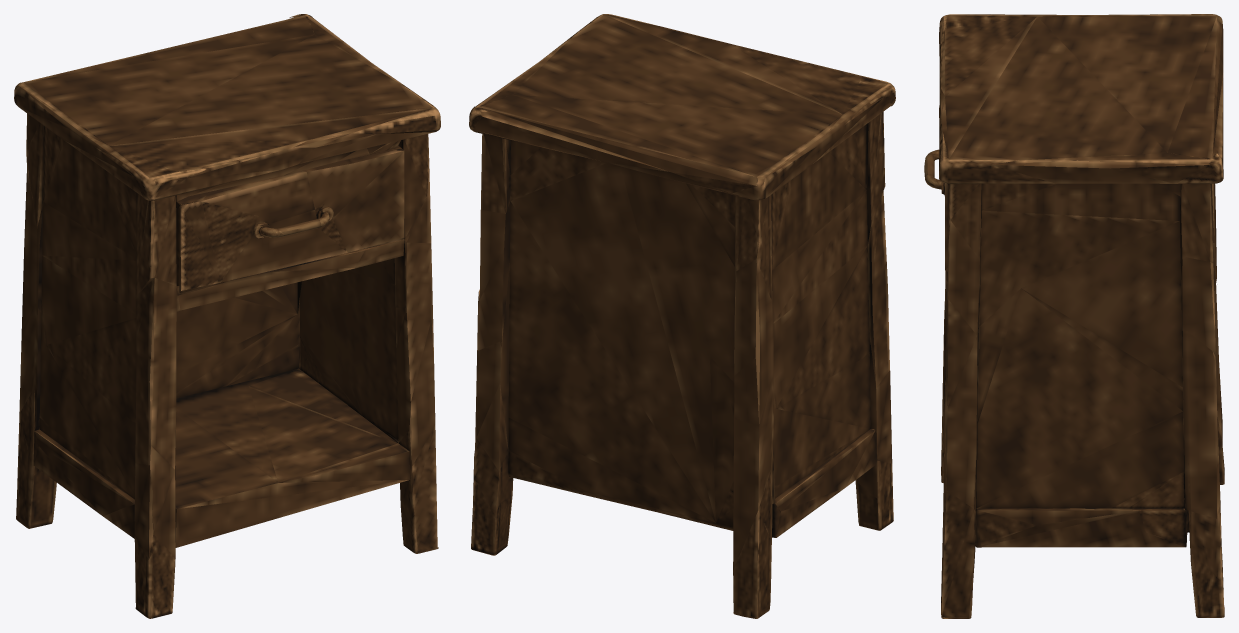
The model's file is nightstand.glb.
3 views of the same model, side by side, from view 1: azimuth 30°, elevation 25°; view 2: azimuth 150°, elevation 25°; view 3: azimuth 270°, elevation 25° (orthographic). The views are drawn at different scales.
Bounding box in the file's own units: 1.33 × 1.9 × 1.13.
1 material, 1 textured.
